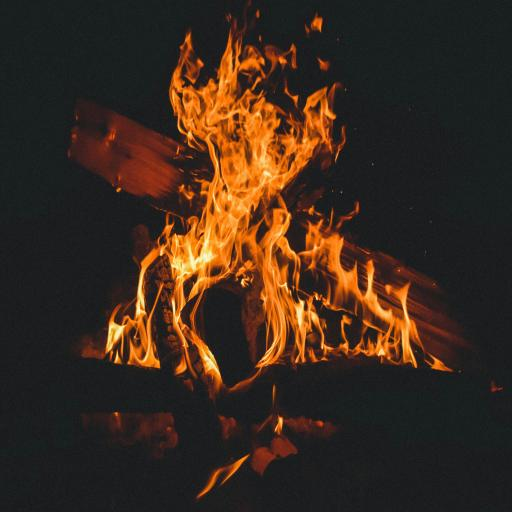campfire: (118, 18, 456, 512)
